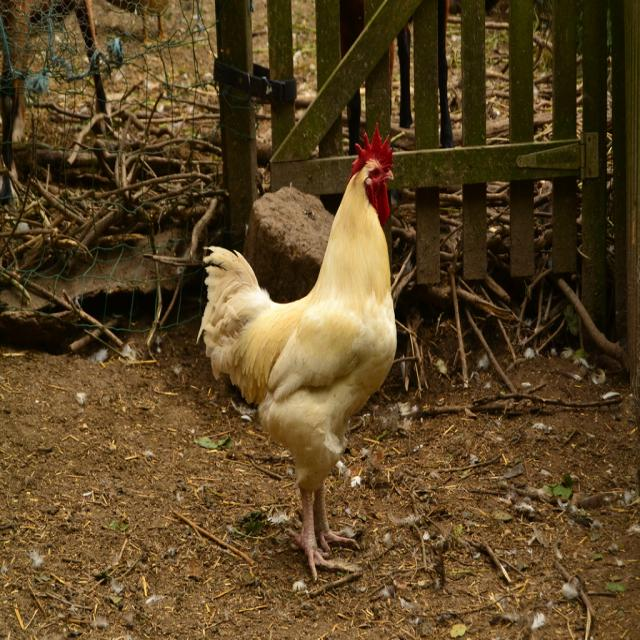Chicken: (196, 122, 397, 583)
